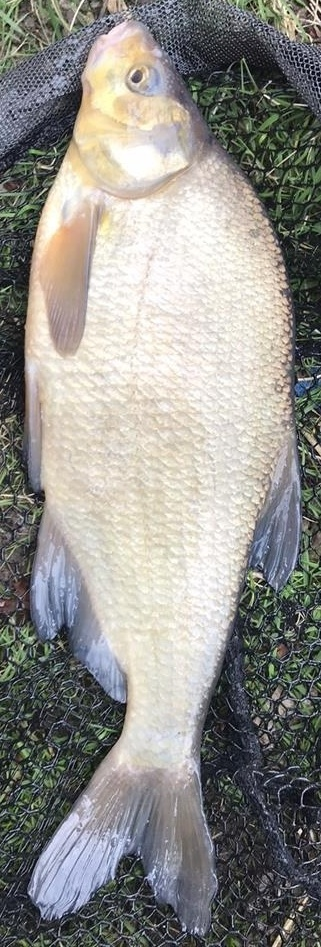Abramis brama: (20, 20, 301, 940)
